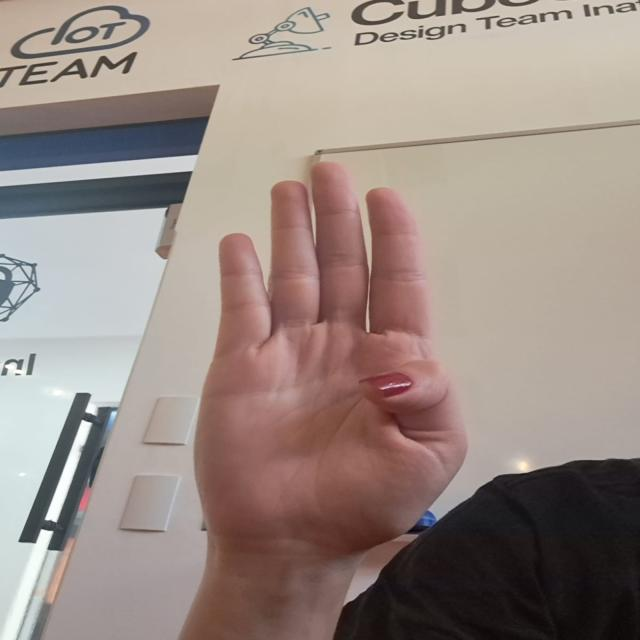B: (178, 140, 474, 578)
